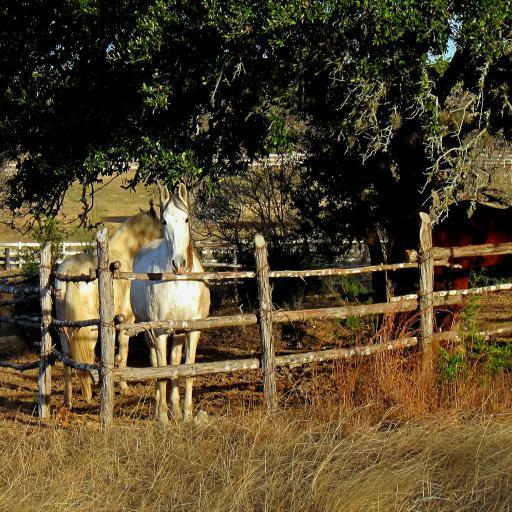horse: (52, 199, 167, 419), (131, 184, 211, 423)
